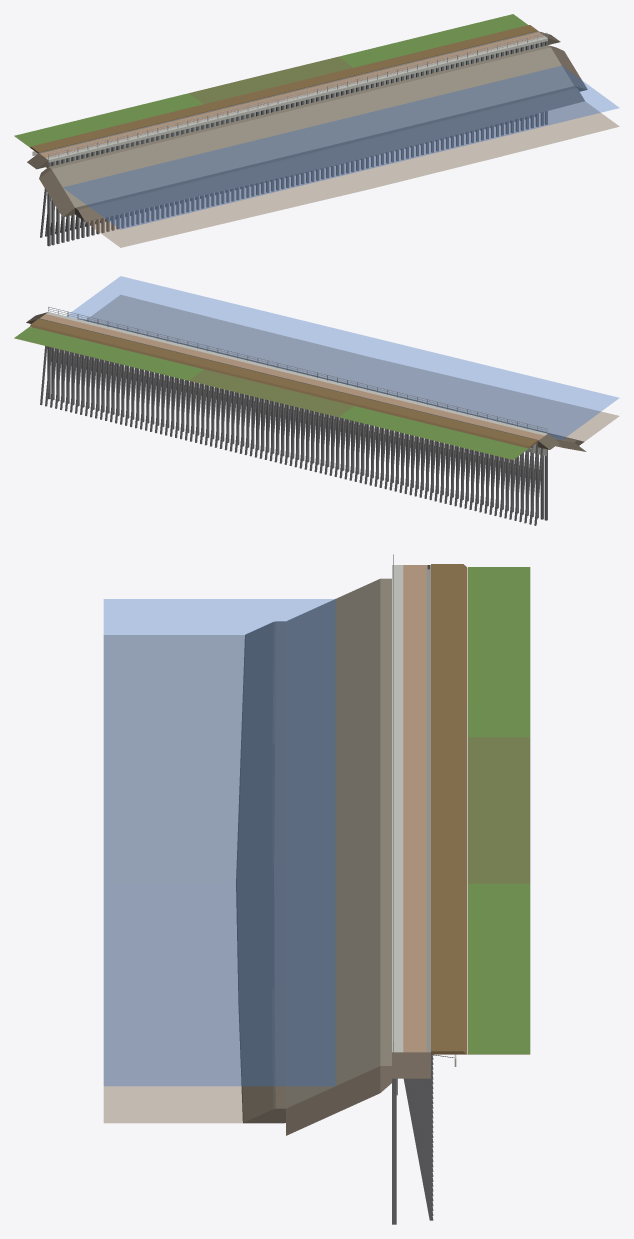
The picture shows the model from 3 angles, top to bottom: view 1: azimuth 30°, elevation 25°; view 2: azimuth 150°, elevation 25°; view 3: azimuth 270°, elevation 25°; orthographic projection. The views are drawn at different scales.
Visible parts, largest first — view 1: ระดับน้ำต่ำสุดเฉลี่ย, ผิวดินเดิม (จากรูปตัดสำรวจ), พื้นดินหลังเขื่อน, คันหินทิ้งตีนเขื่อน 50-75, คันหินทิ้งตีนเขื่อน 25-50, คันหินทิ้งตีนเขื่อน 75-100, เรียงหินใหญ่หน้าเขื่อน แทรกหินเล็ก S01, เรียงหินใหญ่หน้าเขื่อน แทรกหินเล็ก S06, เรียงหินใหญ่หน้าเขื่อน แทรกหินเล็ก S10, เรียงหินใหญ่หน้าเขื่อน แทรกหินเล็ก S02, เรียงหินใหญ่หน้าเขื่อน แทรกหินเล็ก S05, เรียงหินใหญ่หน้าเขื่อน แทรกหินเล็ก S09 (+15 smaller); view 2: ระดับน้ำต่ำสุดเฉลี่ย, ผิวดินเดิม (จากรูปตัดสำรวจ), พื้นดินหลังเขื่อน, ถมดินหนา 0.30 ม. ปลูกหญ้า S01, ถมดินหนา 0.30 ม. ปลูกหญ้า S02, ถมดินหนา 0.30 ม. ปลูกหญ้า S03, ถมดินหนา 0.30 ม. ปลูกหญ้า S10, ถมดินหนา 0.30 ม. ปลูกหญ้า S08, ถมดินหนา 0.30 ม. ปลูกหญ้า S09, ถมดินหนา 0.30 ม. ปลูกหญ้า S04, ถมดินหนา 0.30 ม. ปลูกหญ้า S05, ถมดินหนา 0.30 ม. ปลูกหญ้า S06 (+1 smaller); view 3: ระดับน้ำต่ำสุดเฉลี่ย, ผิวดินเดิม (จากรูปตัดสำรวจ), พื้นดินหลังเขื่อน, คันหินทิ้งตีนเขื่อน 75-100, คันหินทิ้งตีนเขื่อน 50-75, คันหินทิ้งตีนเขื่อน 25-50, คันหินทิ้งตีนเขื่อน 0-25, เรียงหินใหญ่หน้าเขื่อน แทรกหินเล็ก S01, เรียงหินใหญ่หน้าเขื่อน แทรกหินเล็ก S04, เรียงหินใหญ่หน้าเขื่อน แทรกหินเล็ก S05, เรียงหินใหญ่หน้าเขื่อน แทรกหินเล็ก S09, เรียงหินใหญ่หน้าเขื่อน แทรกหินเล็ก S08 (+26 smaller).
Part boxes in pixels (x1,y1,x2,y2): ระดับน้ำต่ำสุดเฉลี่ย: (63,66,618,229); ผิวดินเดิม (จากรูปตัดสำรวจ): (17,57,619,247); พื้นดินหลังเขื่อน: (14,14,527,147); คันหินทิ้งตีนเขื่อน 50-75: (325,116,460,164); คันหินทิ้งตีนเขื่อน 25-50: (200,147,336,193); คันหินทิ้งตีนเขื่อน 75-100: (450,86,584,133); เรียงหินใหญ่หน้าเขื่อน แทรกหินเล็ก S01: (49,155,124,207); เรียงหินใหญ่หน้าเขื่อน แทรกหินเล็ก S06: (298,94,374,146); เรียงหินใหญ่หน้าเขื่อน แทรกหินเล็ก S10: (498,45,573,97); เรียงหินใหญ่หน้าเขื่อน แทรกหินเล็ก S02: (99,142,174,195); เรียงหินใหญ่หน้าเขื่อน แทรกหินเล็ก S05: (248,106,324,158); เรียงหินใหญ่หน้าเขื่อน แทรกหินเล็ก S09: (448,57,523,109); ระดับน้ำต่ำสุดเฉลี่ย: (67,276,618,439); ผิวดินเดิม (จากรูปตัดสำรวจ): (14,295,619,459); พื้นดินหลังเขื่อน: (14,326,528,459); ถมดินหนา 0.30 ม. ปลูกหญ้า S01: (479,428,537,448); ถมดินหนา 0.30 ม. ปลูกหญ้า S02: (429,416,487,435); ถมดินหนา 0.30 ม. ปลูกหญ้า S03: (379,404,437,423); ถมดินหนา 0.30 ม. ปลูกหญ้า S10: (30,318,88,338); ถมดินหนา 0.30 ม. ปลูกหญ้า S08: (130,343,187,362); ถมดินหนา 0.30 ม. ปลูกหญ้า S09: (80,331,137,350); ถมดินหนา 0.30 ม. ปลูกหญ้า S04: (329,391,387,411); ถมดินหนา 0.30 ม. ปลูกหญ้า S05: (279,379,337,399); ถมดินหนา 0.30 ม. ปลูกหญ้า S06: (230,367,287,387); ระดับน้ำต่ำสุดเฉลี่ย: (104,599,335,1085); ผิวดินเดิม (จากรูปตัดสำรวจ): (103,567,530,1123); พื้นดินหลังเขื่อน: (468,567,530,1054); คันหินทิ้งตีนเขื่อน 75-100: (238,987,285,1123); คันหินทิ้งตีนเขื่อน 50-75: (236,865,285,1003); คันหินทิ้งตีนเขื่อน 25-50: (236,743,285,882); คันหินทิ้งตีนเขื่อน 0-25: (240,621,285,758); เรียงหินใหญ่หน้าเขื่อน แทรกหินเล็ก S01: (286,578,391,669); เรียงหินใหญ่หน้าเขื่อน แทรกหินเล็ก S04: (286,724,391,815); เรียงหินใหญ่หน้าเขื่อน แทรกหินเล็ก S05: (286,773,391,864); เรียงหินใหญ่หน้าเขื่อน แทรกหินเล็ก S09: (286,968,391,1059); เรียงหินใหญ่หน้าเขื่อน แทรกหินเล็ก S08: (286,919,391,1010).
Bounding box in the file's own units: 105 × 17.54 × 37.
